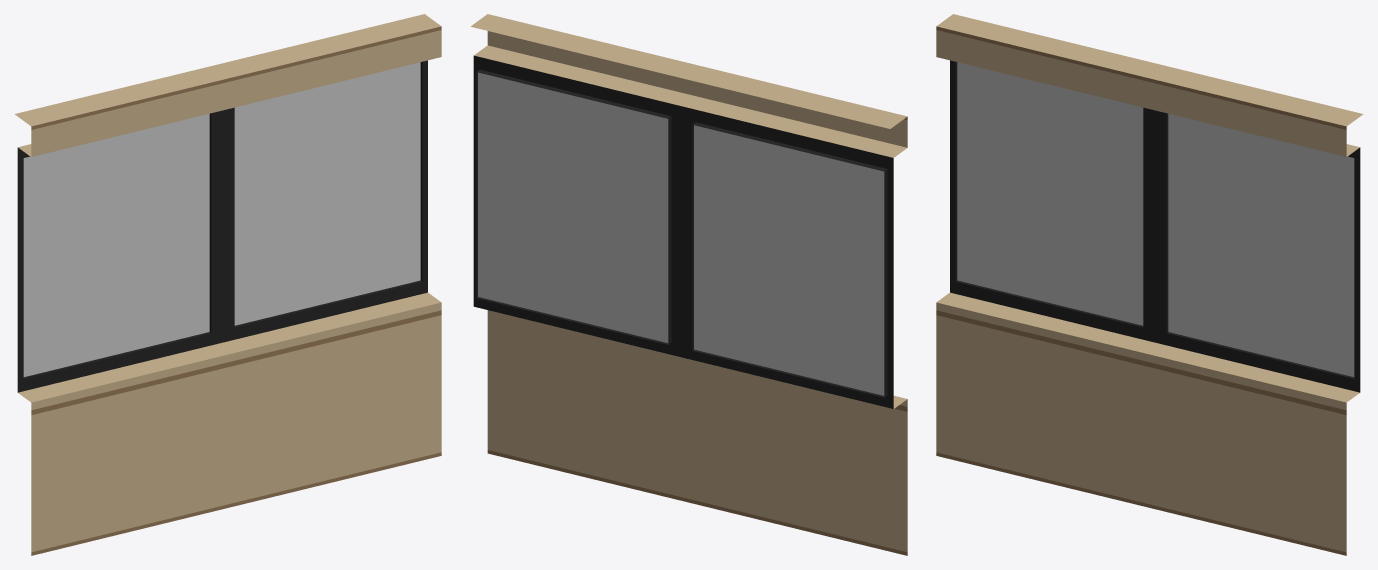
The model's file is M_WallTile1FWindow200Biege80.FBX.
The picture shows the model from 3 angles, left to right: view 1: azimuth 30°, elevation 25°; view 2: azimuth 150°, elevation 25°; view 3: azimuth 330°, elevation 25°; orthographic projection. The views are drawn at different scales.
Parts seen in each view (by area): view 1: M_WallTile1FWindow200Biege80; view 2: M_WallTile1FWindow200Biege80; view 3: M_WallTile1FWindow200Biege80.
Boxes of the visible parts, x1,y1,x2,y2 form: M_WallTile1FWindow200Biege80: (14,14,441,555); M_WallTile1FWindow200Biege80: (471,14,907,555); M_WallTile1FWindow200Biege80: (936,14,1363,555).
Bounding box in the file's own units: 3.5 × 3.5 × 0.25.
